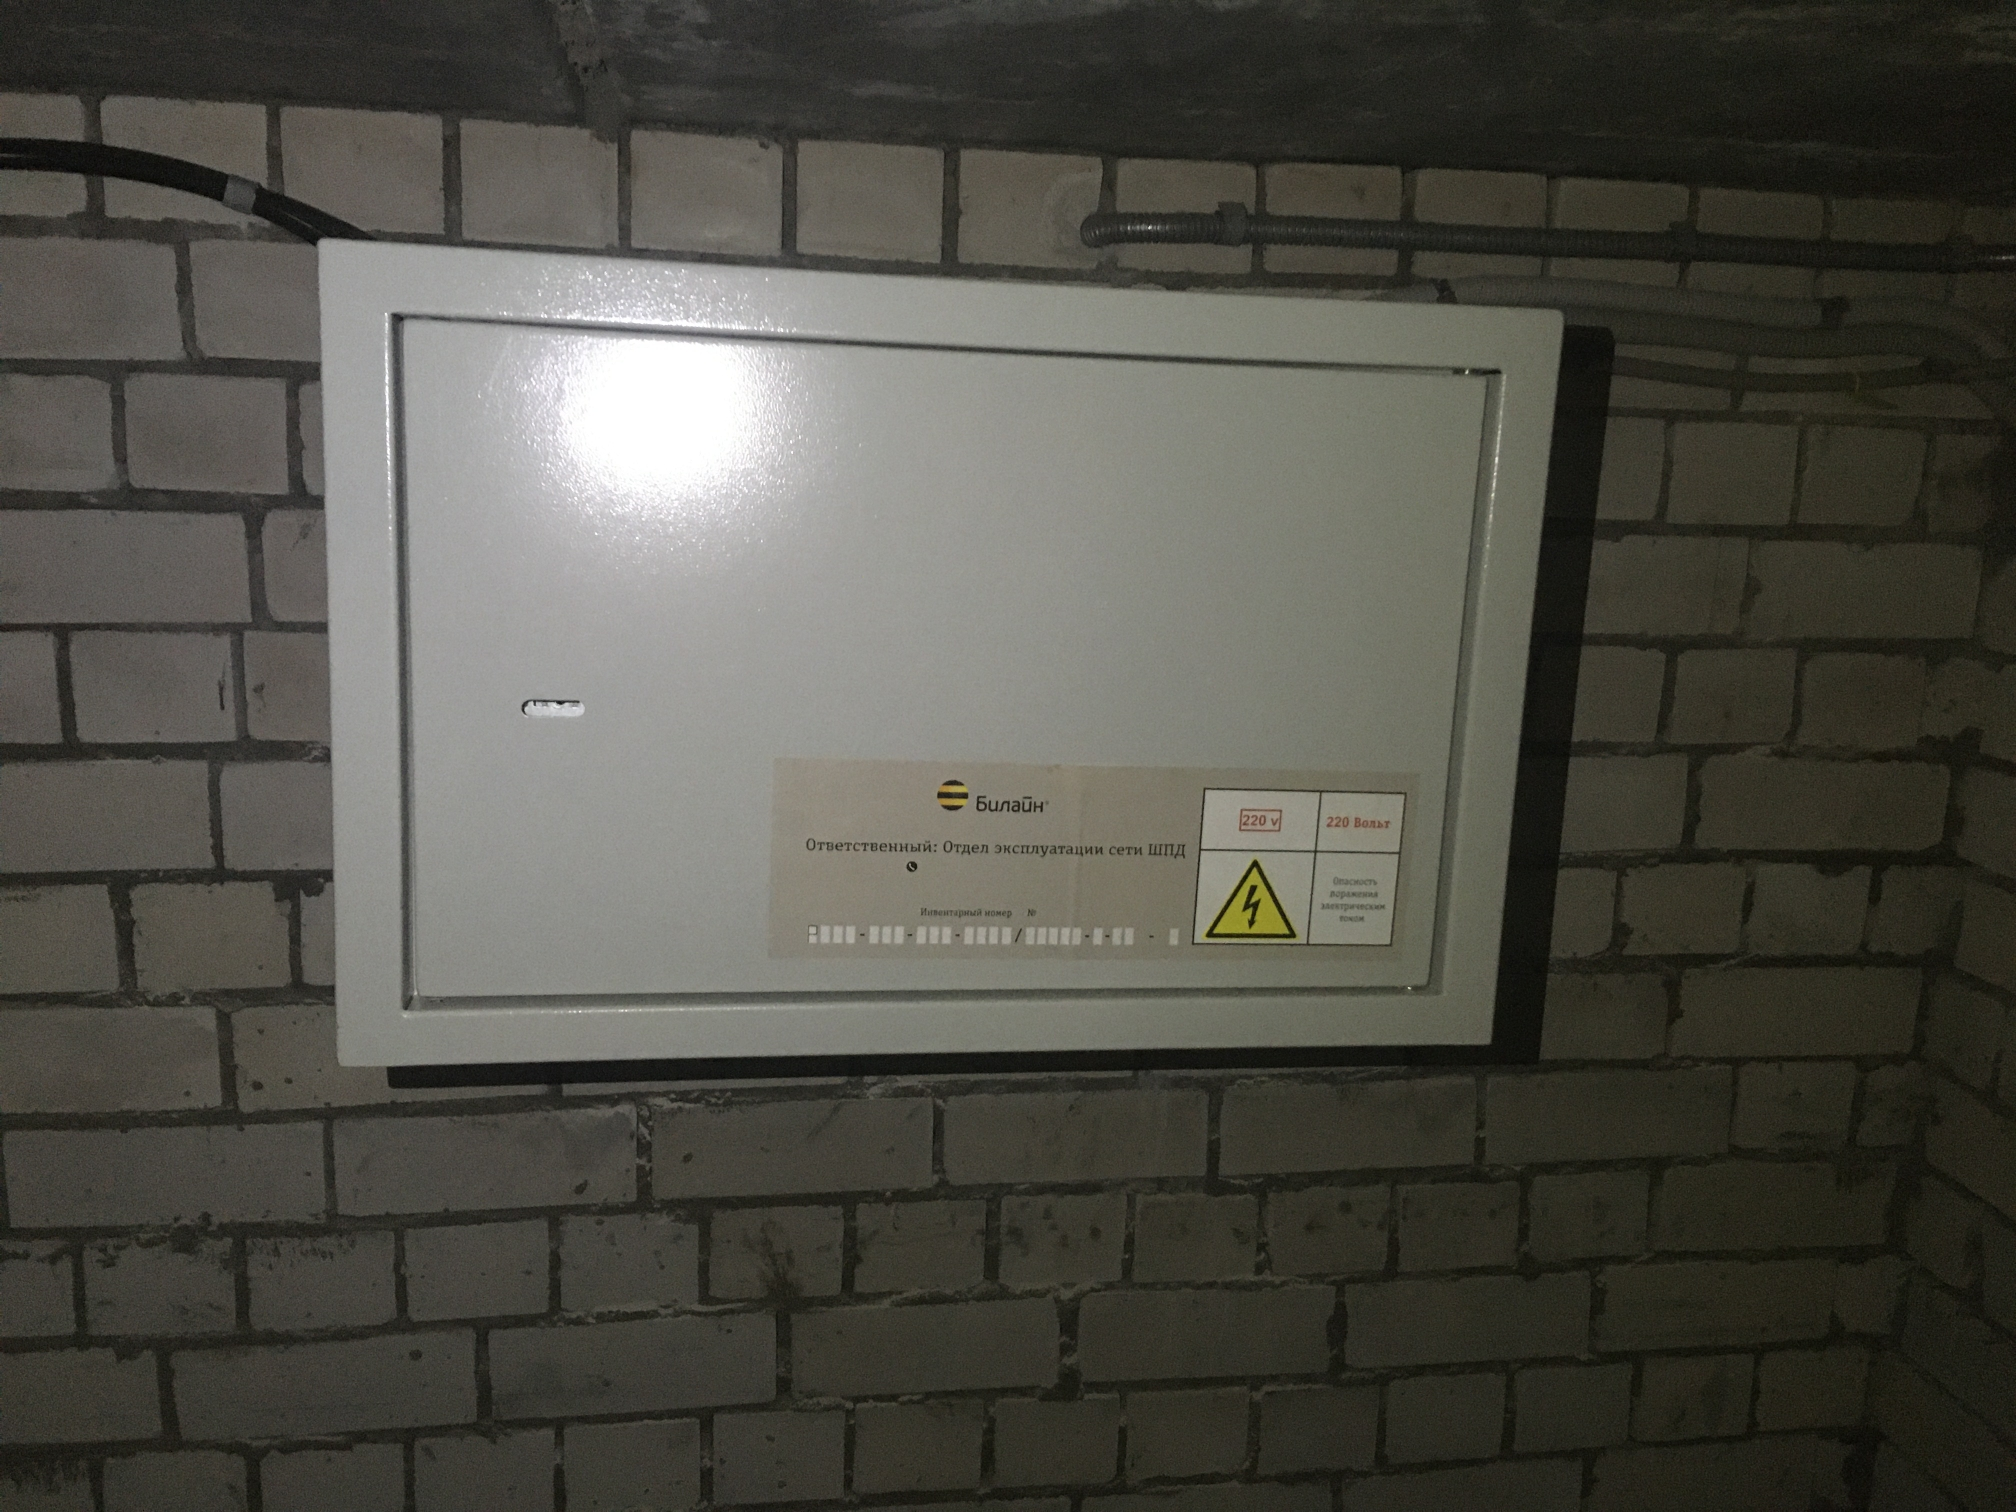shta-7m: (303, 214, 1578, 1086)
